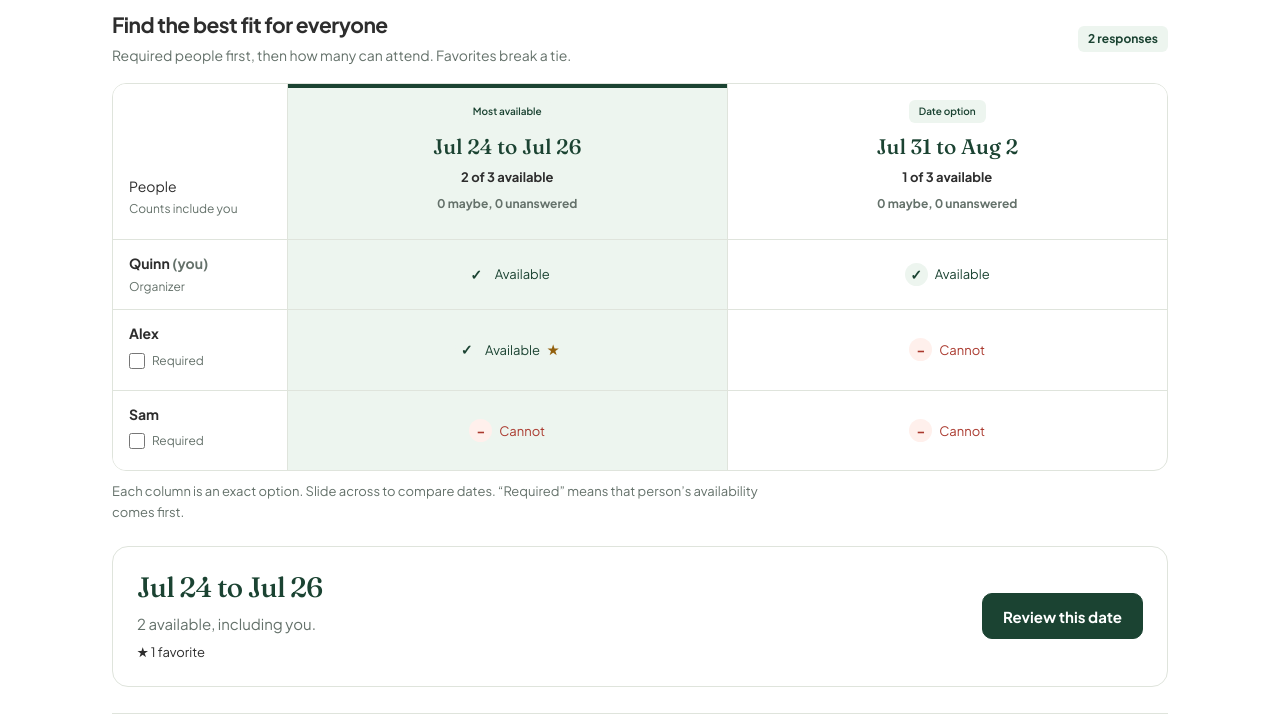
Test: ManageTrip › persists a required person and moves their unavailable option behind eligible dates
This screenshot has width=1280, height=720.
(page scrolled)
Click the checkbox named "Require Alex": (137, 361) [129,353,145,369]
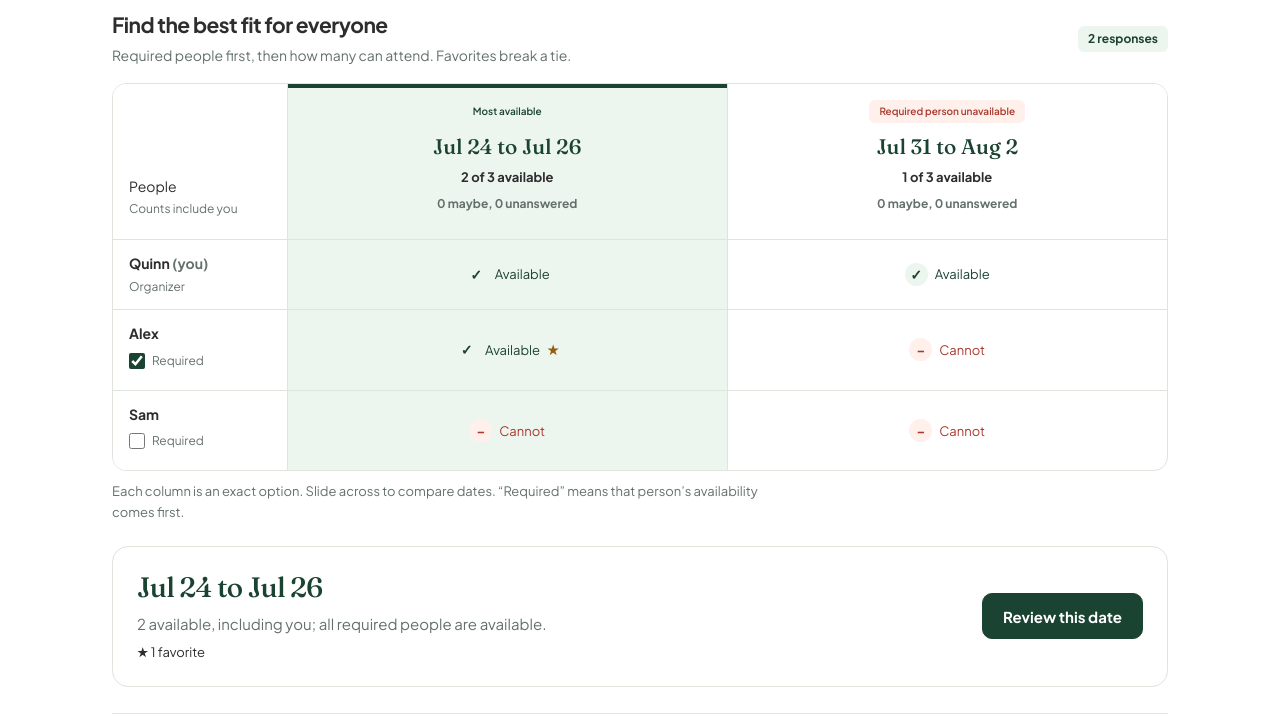
Expected: the checkbox named "Require Alex" is checked, [129,353,145,369]
Expected: the text "Required person unavailable" is shown, [869,100,1025,123]
